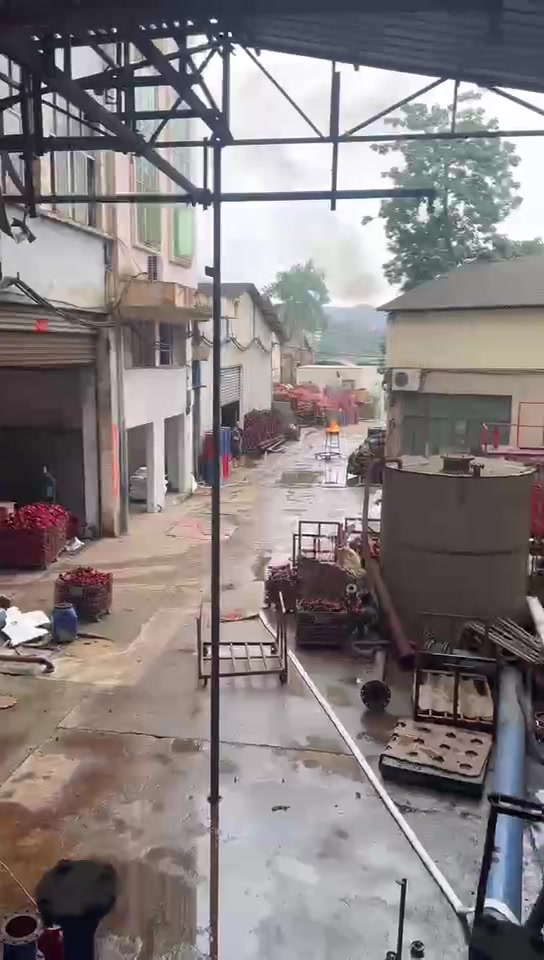fire: (326, 421, 338, 432)
